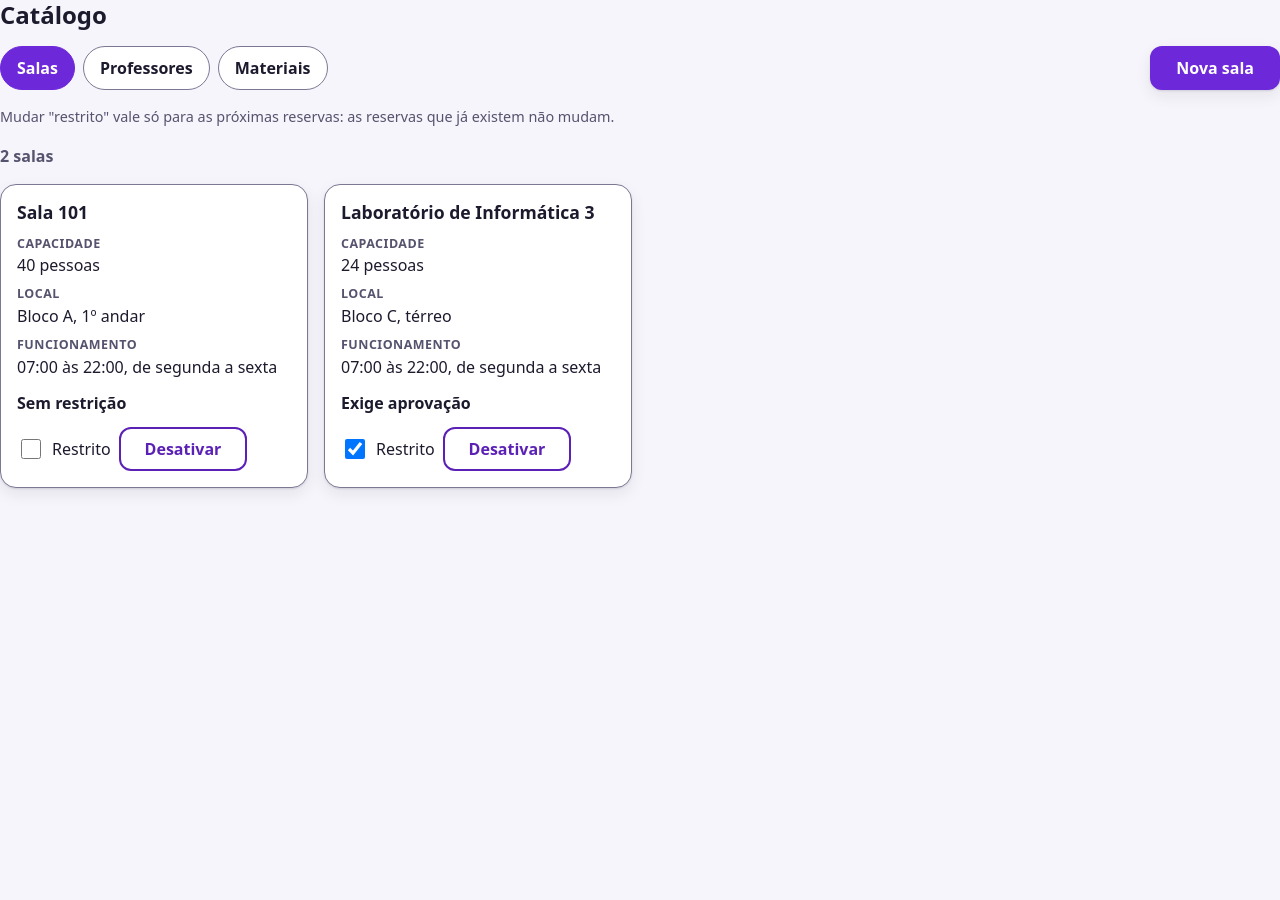
PaginaDoCatalogo: desativar (irreversível, com confirmação) › Escape fecha o diálogo, devolve o foco ao botão e não envia nada
The image size is (1280, 900).
Click the button "Desativar" below "Sem restrição". click: [183, 449]
box: [119,427,247,471]
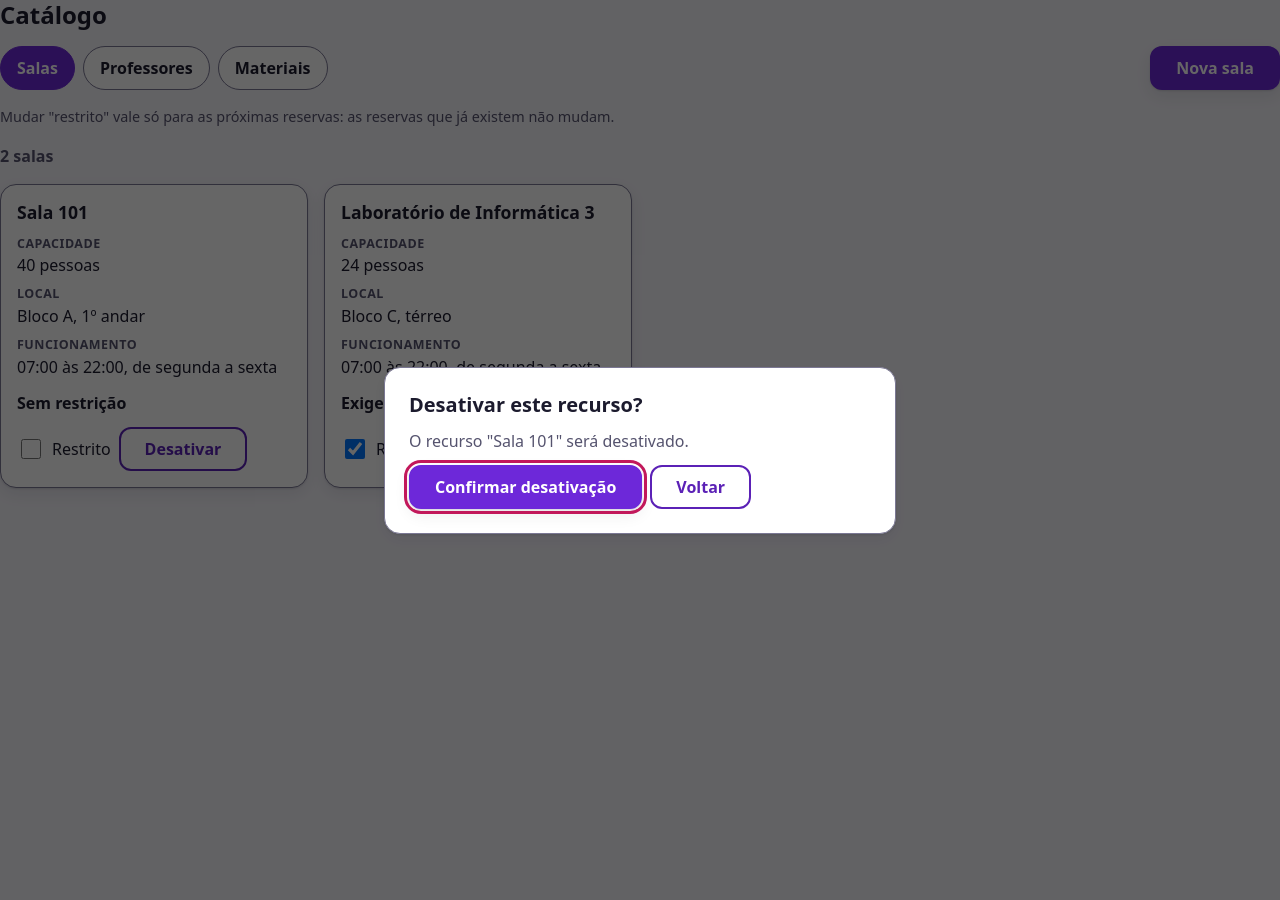
Press Escape
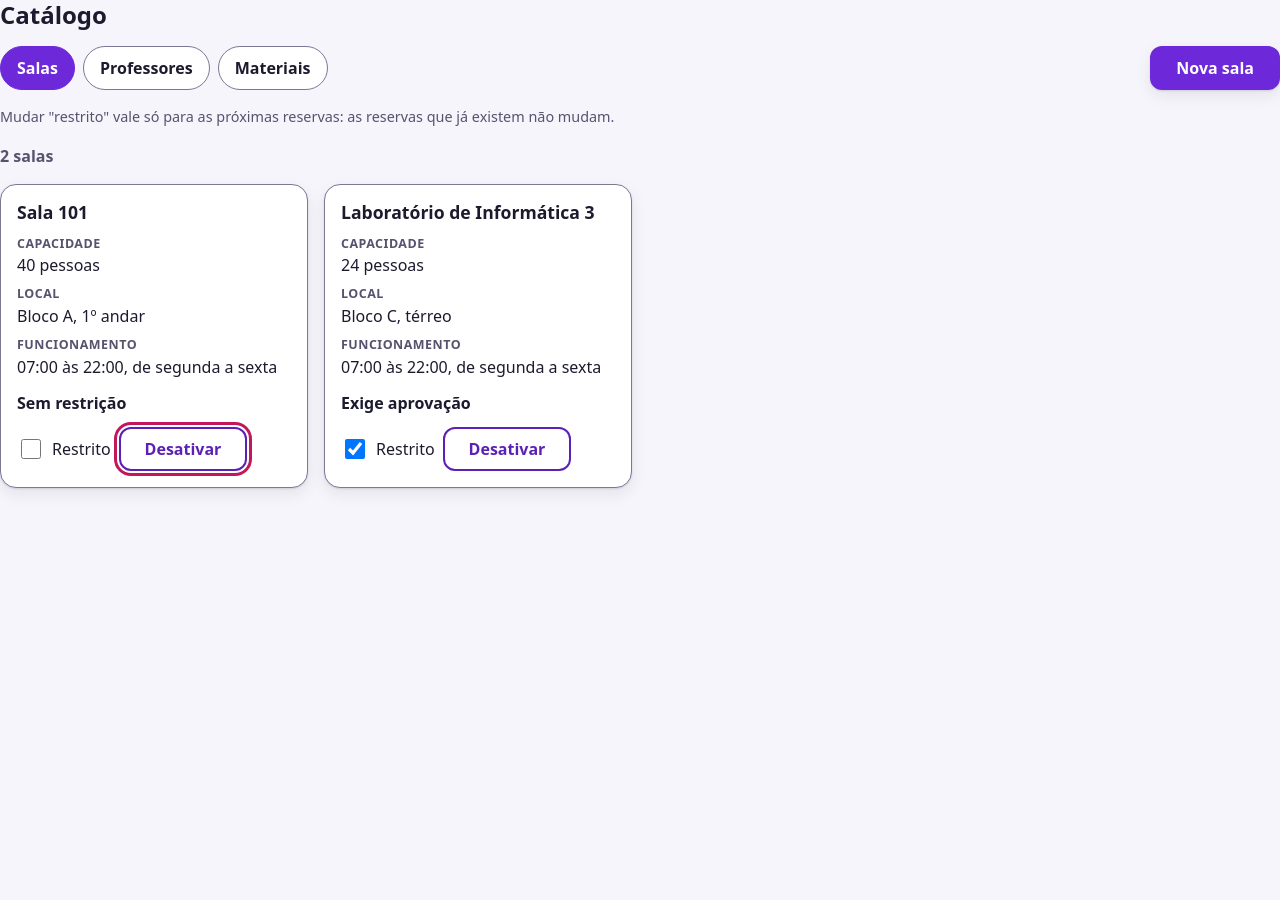
Expected: the dialog is gone
